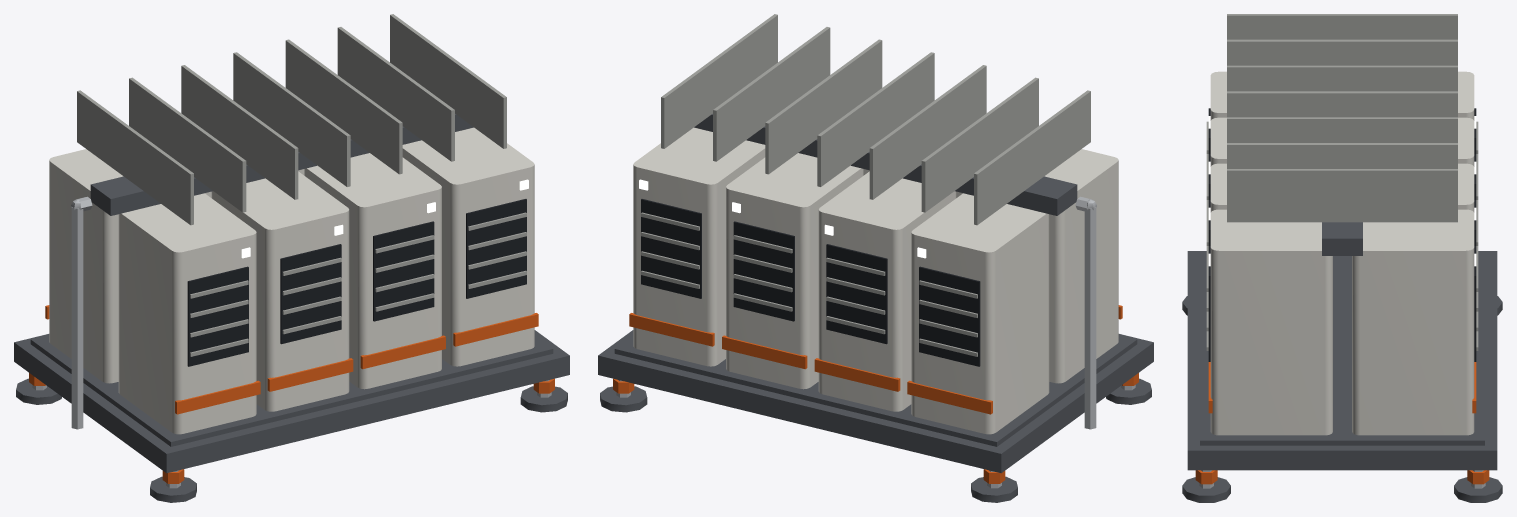
Rendered from battery_bank.glb.
3 renders of one model, left to right at view 1: azimuth 30°, elevation 25°; view 2: azimuth 150°, elevation 25°; view 3: azimuth 270°, elevation 25°, orthographic.
Visible parts, largest first — view 1: body; view 2: body; view 3: body.
Part boxes in pixels (x1,y1,x2,y2): body: [14, 14, 569, 502]; body: [598, 14, 1153, 502]; body: [1182, 14, 1502, 502].
Bounding box in the file's own units: 3.67 × 2.51 × 2.36.
